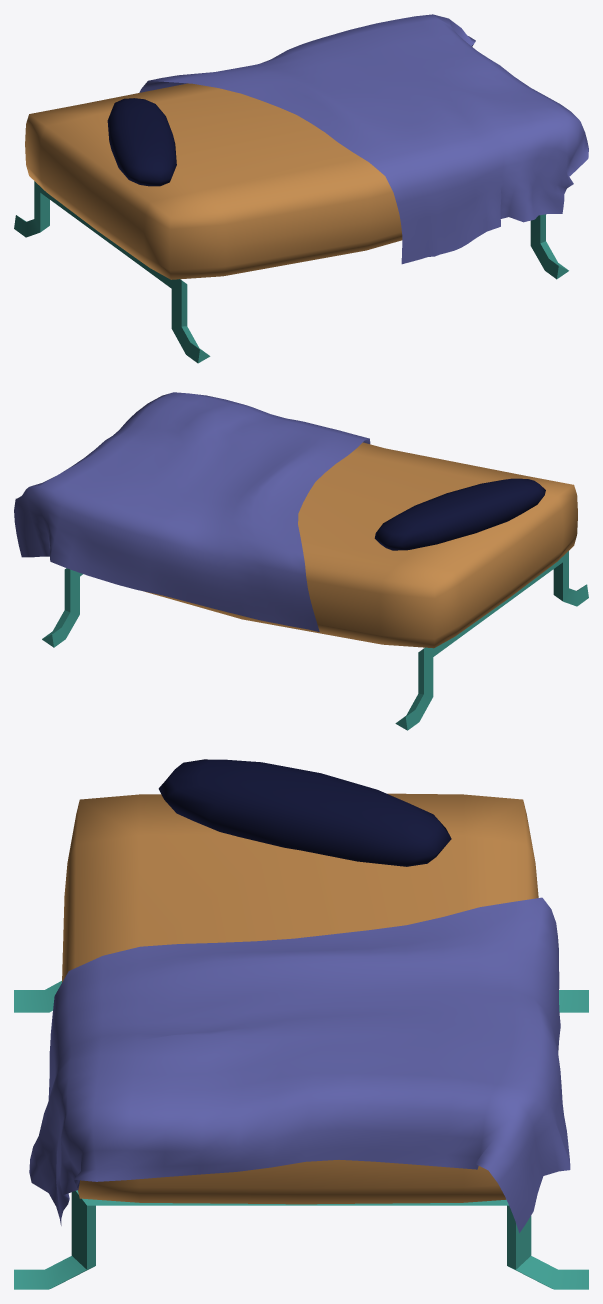
The model's file is MDL_Cama.FBX.
3 views of the same model, one above another, from view 1: azimuth 30°, elevation 25°; view 2: azimuth 150°, elevation 25°; view 3: azimuth 270°, elevation 25° (orthographic). The views are drawn at different scales.
Parts seen in each view (by area): view 1: Box010; view 2: Box010; view 3: Box010.
Part boxes in pixels (x1,y1,x2,y2): Box010: [14, 14, 588, 363]; Box010: [14, 392, 588, 730]; Box010: [14, 759, 588, 1289].
Bounding box in the file's own units: 89.3 × 31.78 × 63.78.
